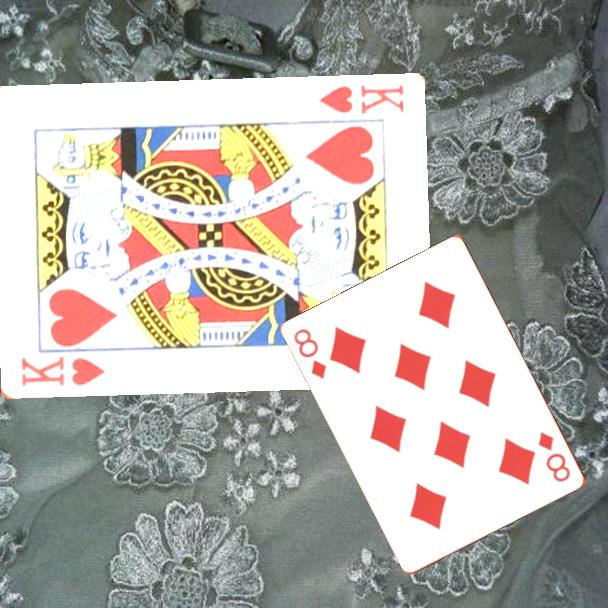d08: (290, 325, 330, 382), (535, 428, 574, 485)
h13: (17, 354, 108, 390), (315, 82, 406, 117)
